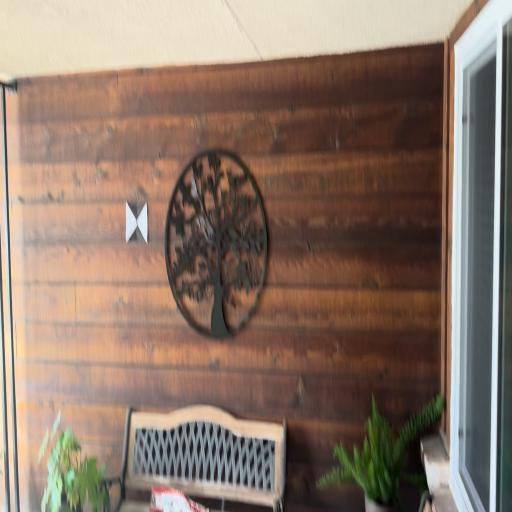target: (126, 202, 148, 242)
